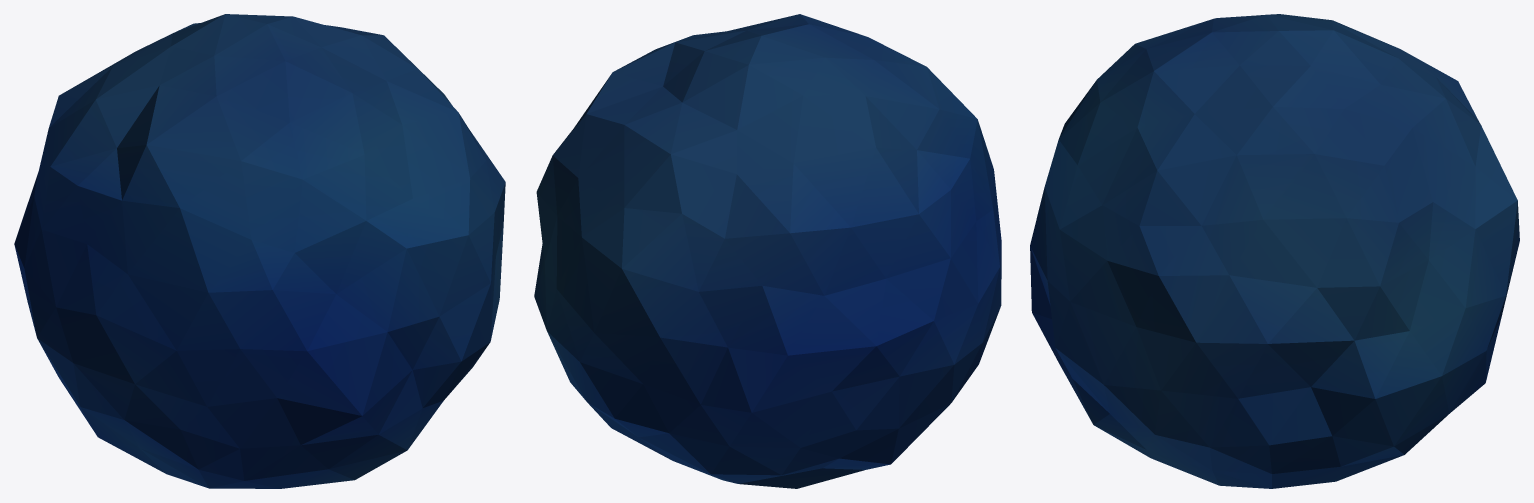
File: Generic_Planets_Planet_Generic_Water.fbx
The picture shows the model from 3 angles, left to right: view 1: azimuth 30°, elevation 25°; view 2: azimuth 150°, elevation 25°; view 3: azimuth 270°, elevation 25°; orthographic projection. The views are drawn at different scales.
Visible parts, largest first — view 1: Planet_Generic_Water; view 2: Planet_Generic_Water; view 3: Planet_Generic_Water.
Part boxes in pixels (x1,y1,x2,y2): Planet_Generic_Water: [14, 14, 505, 488]; Planet_Generic_Water: [534, 14, 1001, 488]; Planet_Generic_Water: [1030, 14, 1519, 488].
Bounding box in the file's own units: 19.24 × 19.47 × 19.32.
